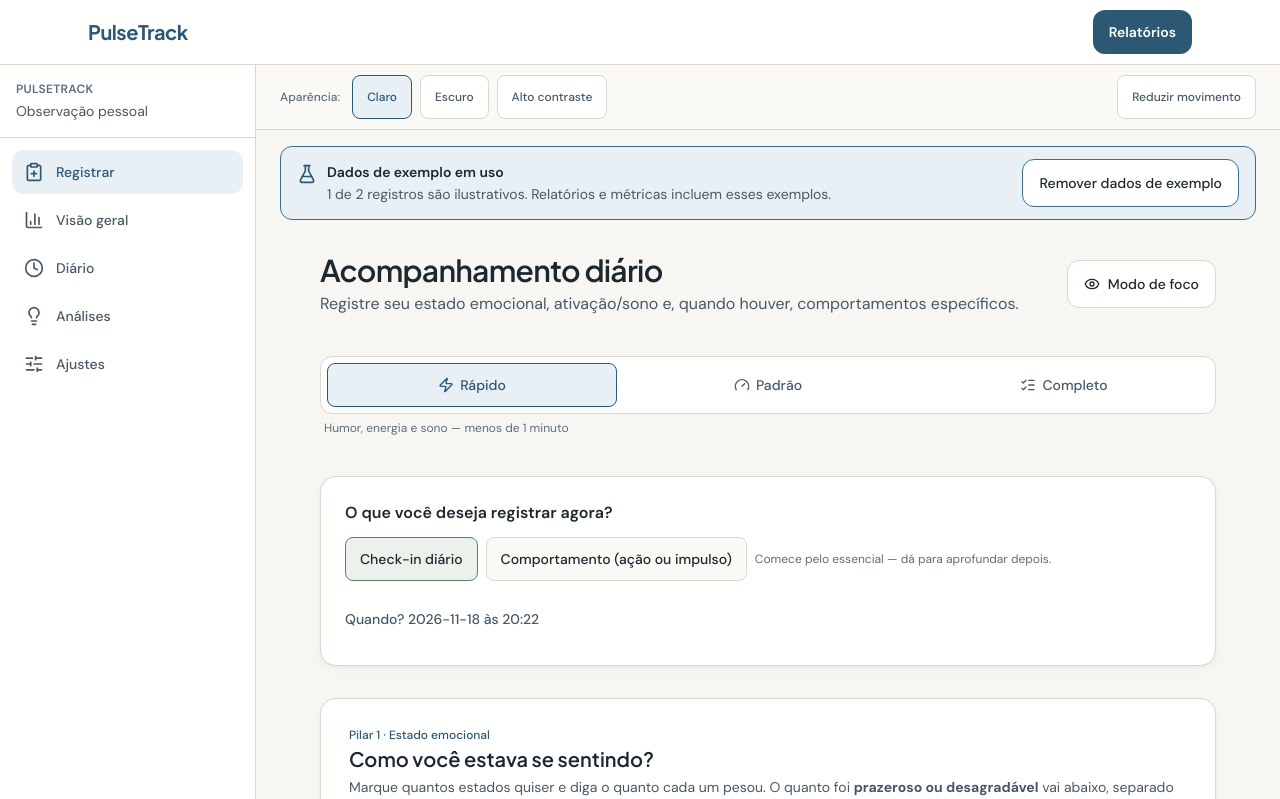
Test: App — dados de exemplo › identifica mistura de exemplos com dados reais e remove só os exemplos
This screenshot has width=1280, height=799.
Expected: the text "1 de 2 registros são ilustrativos" is shown, [327,185,831,203]
Click the button "Remover dados de exemplo" at [1131, 183], box [1022,159,1239,207]
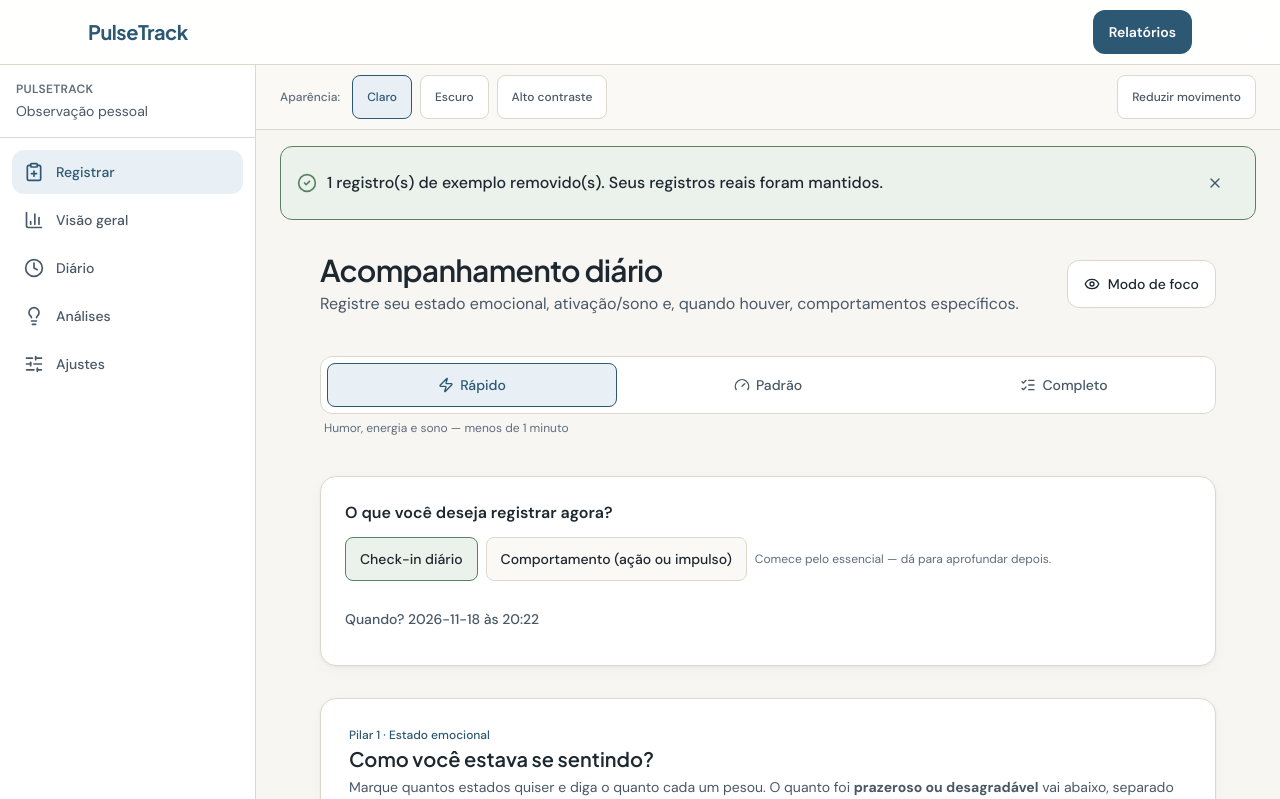
Expected: the text "Dados de exemplo em uso" is gone
